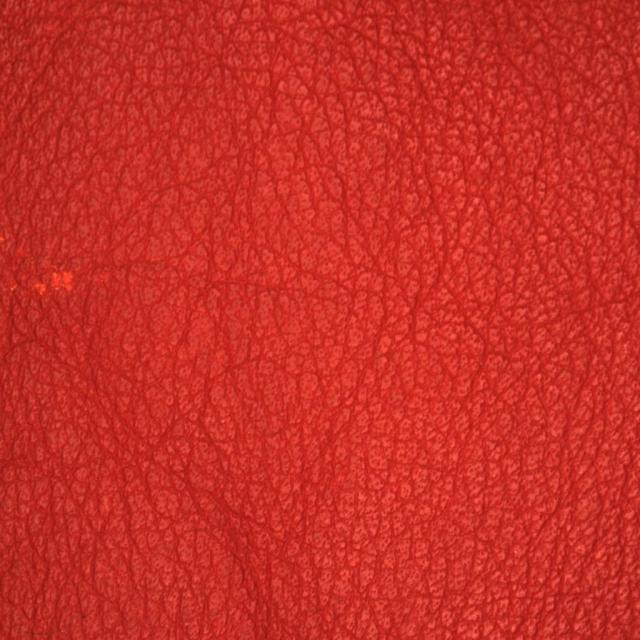Rotten surface: (13, 217, 168, 346)
